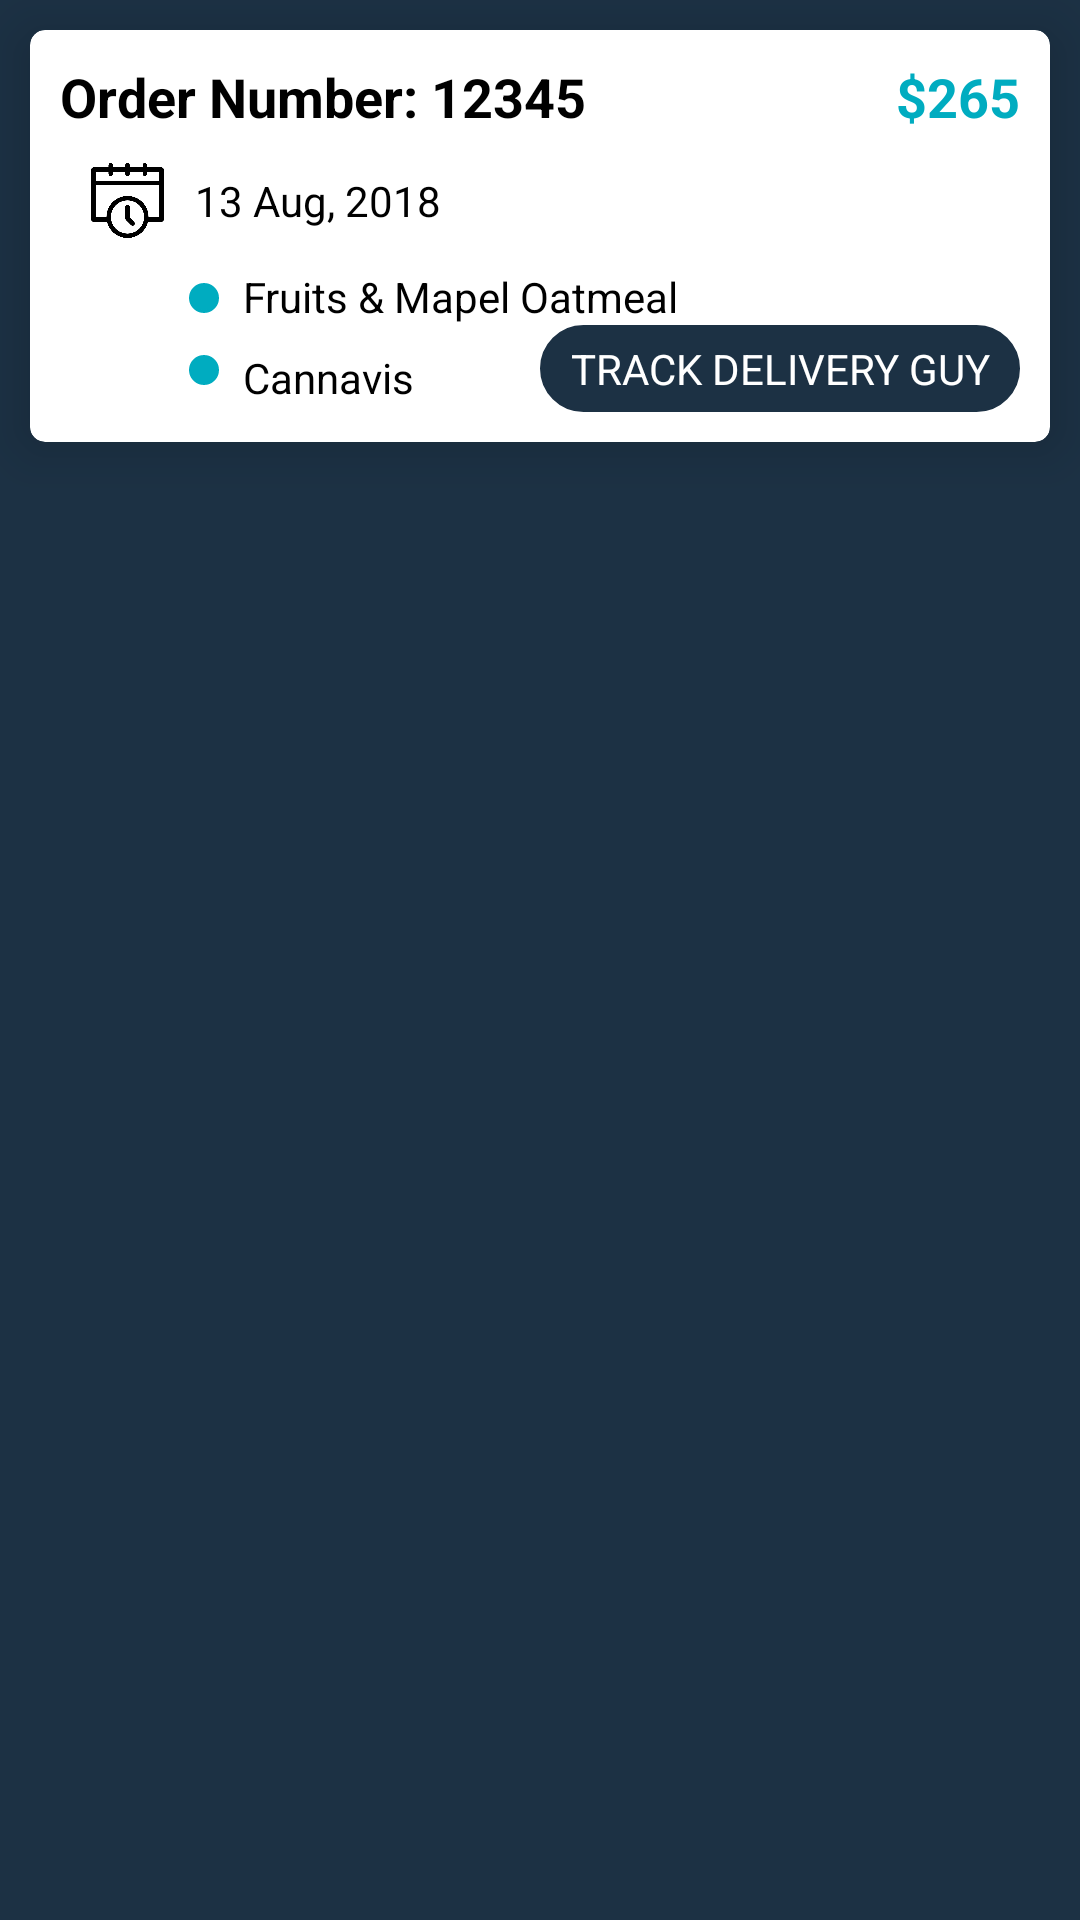

Icons on this 1080w x 1920h Android screen, each with its box as (x1, y1, x2, y2):
clock: (91, 163, 164, 238)
